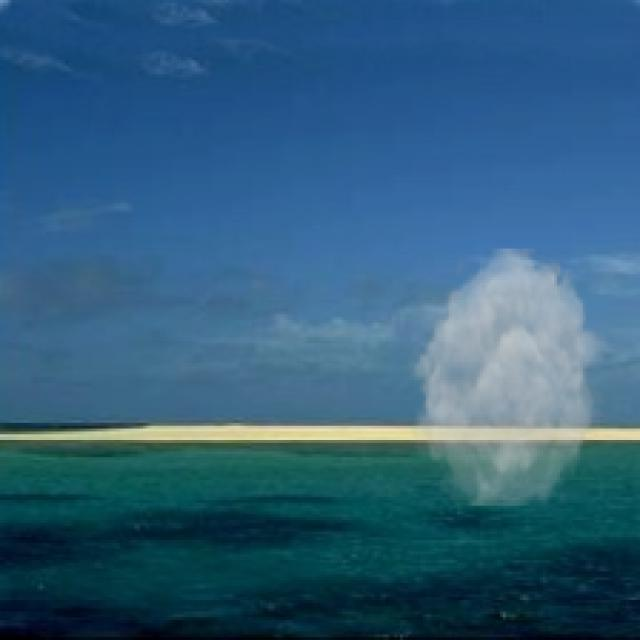Smoke: (406, 248, 608, 506)
